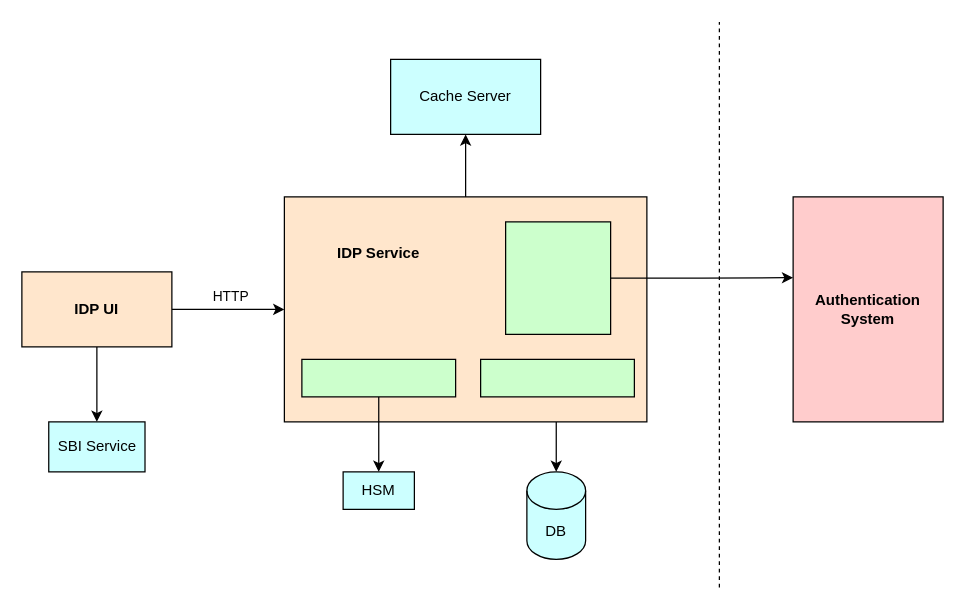
Some shapes in this 965 by 611 pixel diagram are drawn without their labels. Here are the shapes that lost their labels. From the top down, the box of each, then its label:
(504, 221, 611, 334): Authentication wrapper
(301, 358, 456, 397): Keymanager
(479, 358, 634, 397): IDP Core
